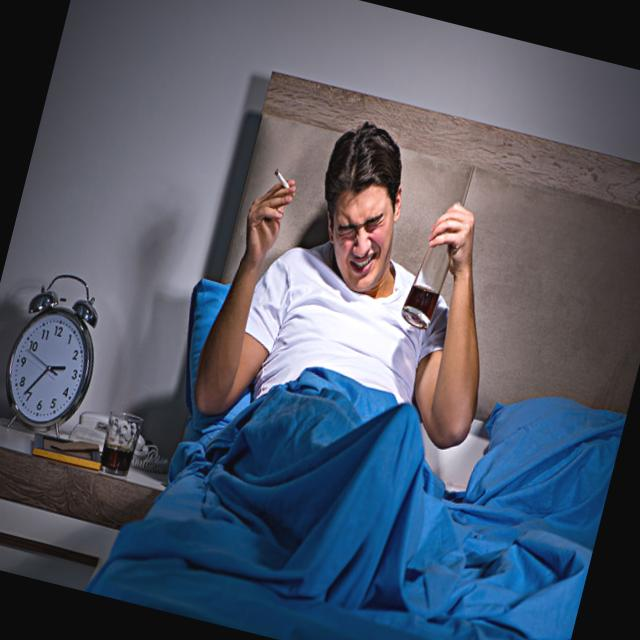smoke: (270, 166, 294, 194)
